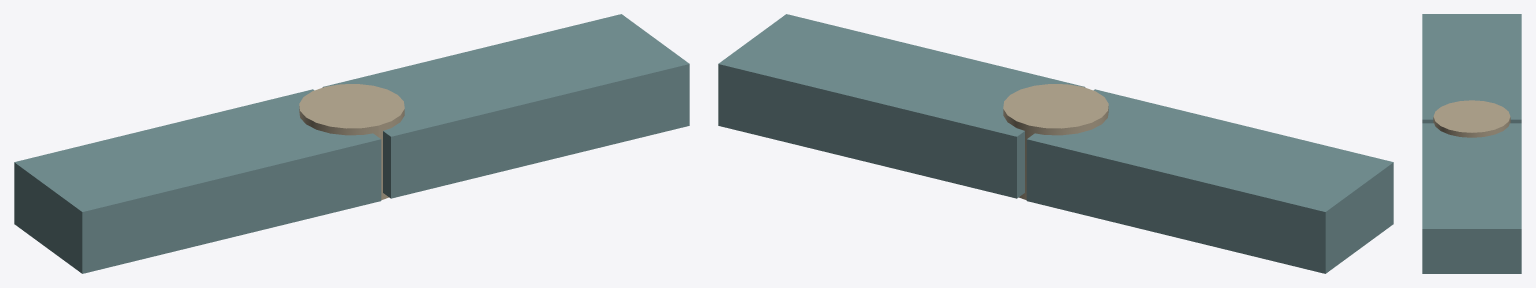
Rendered from cs2-butterfly-emerald.glb.
3 views of the same model, side by side, from view 1: azimuth 30°, elevation 25°; view 2: azimuth 150°, elevation 25°; view 3: azimuth 270°, elevation 25° (orthographic). The views are drawn at different scales.
Visible parts, largest first — view 1: PublicNeutral_LeftFold, PublicNeutral_RightFold, PublicNeutral_CentralHinge; view 2: PublicNeutral_LeftFold, PublicNeutral_RightFold, PublicNeutral_CentralHinge; view 3: PublicNeutral_RightFold, PublicNeutral_LeftFold, PublicNeutral_CentralHinge.
Boxes of the visible parts, <box> form: PublicNeutral_LeftFold: <box>14,89,381,273</box>; PublicNeutral_RightFold: <box>322,14,689,198</box>; PublicNeutral_CentralHinge: <box>299,84,404,199</box>; PublicNeutral_LeftFold: <box>1026,89,1393,273</box>; PublicNeutral_RightFold: <box>718,14,1085,198</box>; PublicNeutral_CentralHinge: <box>1003,84,1108,199</box>; PublicNeutral_RightFold: <box>1422,123,1521,273</box>; PublicNeutral_LeftFold: <box>1422,14,1521,123</box>; PublicNeutral_CentralHinge: <box>1433,100,1510,137</box>.
Bounding box in the file's own units: 0.185 × 0.022 × 0.036.
